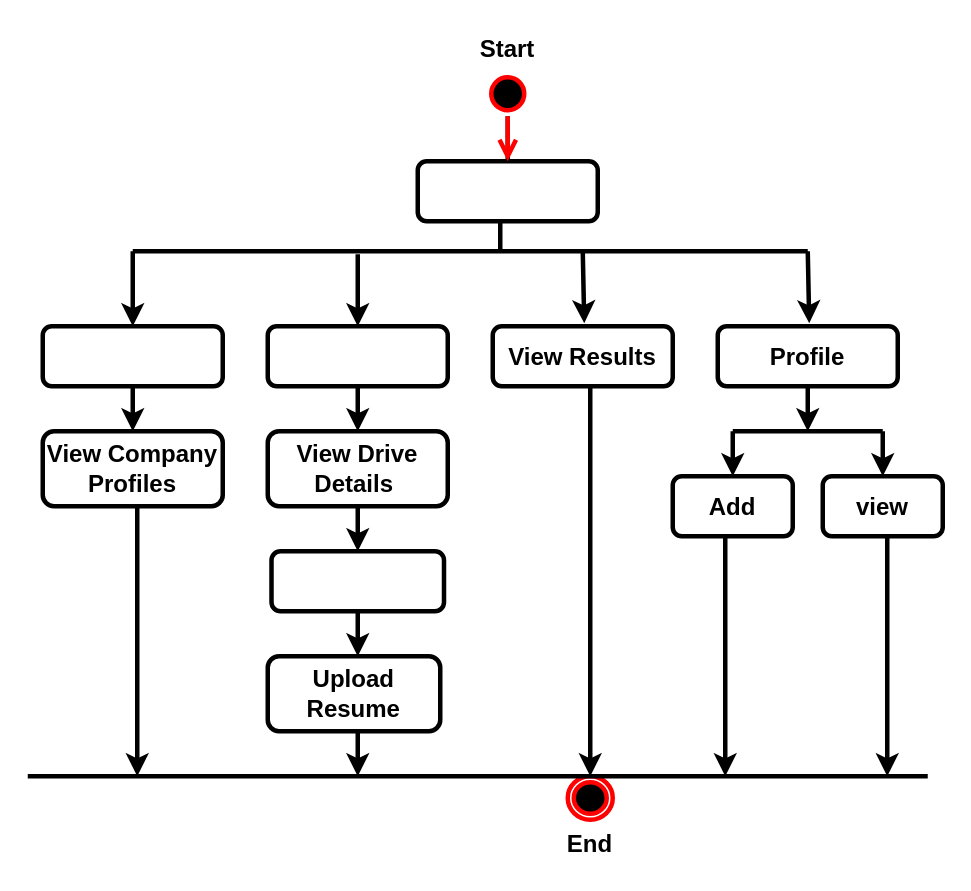
Image size: 971x891. Some labels were removed from this diagram. The centre of each missing label's shape, as x and y in pixels:
Active Drives: the point at 357,355
Apply: the point at 357,580
Connections: the point at 132,355
Home Page: the point at 507,190
